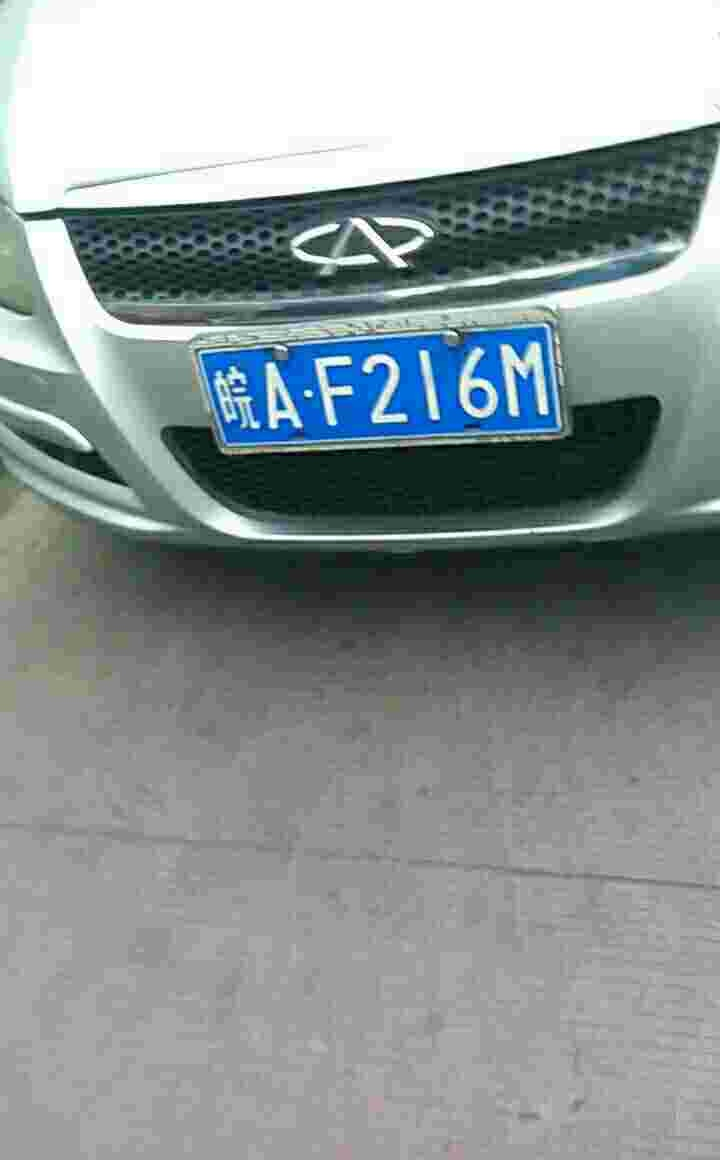license_plate: (211, 326, 567, 450)
